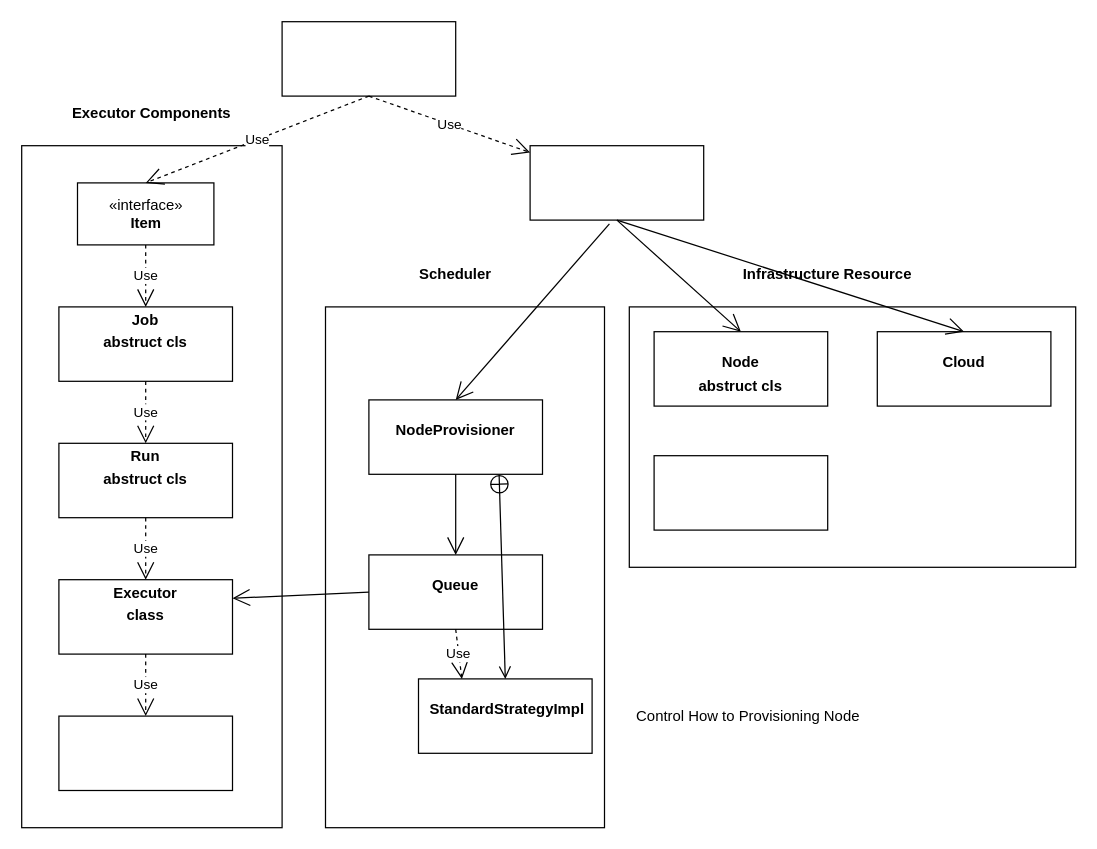
This 1097x849 diagram has some shape labels left out. Here are the shapes that lost their labels. From the top down, the centre of each, then its label:
At (368,58): "Jenkins".
At (616,182): "Label".
At (740,492): "Computer abstruct cls".
At (145,752): "Thread class".
